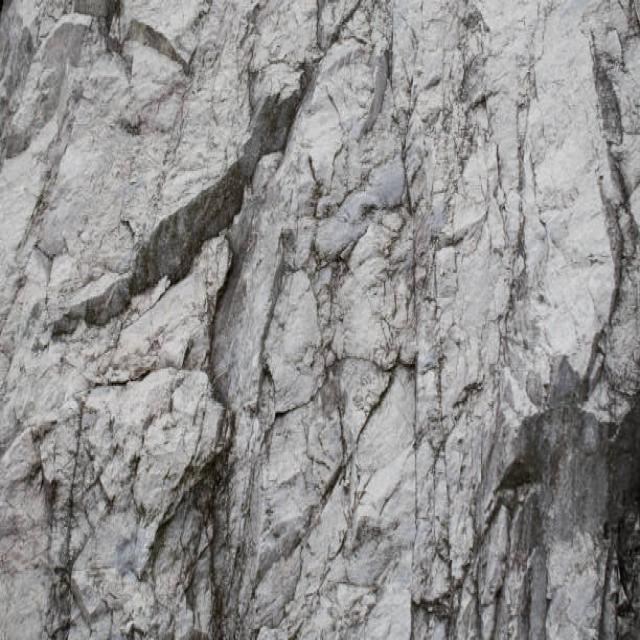Metamorphic: (3, 3, 638, 640)
